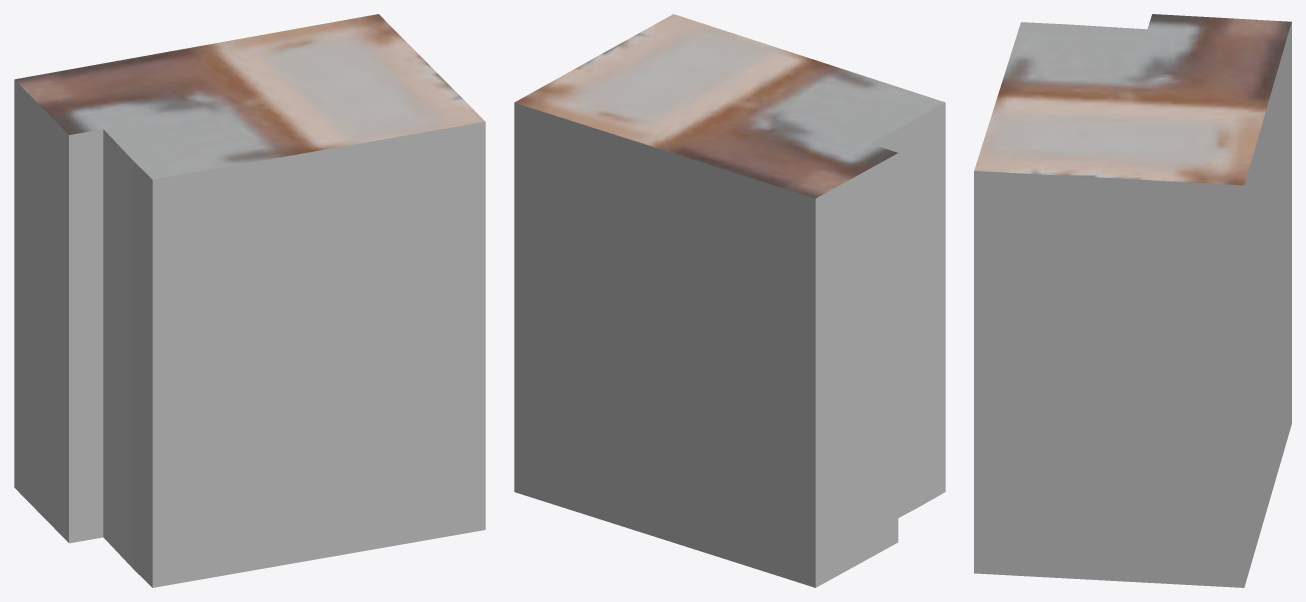
The model's file is DEBW_0010007Tx4M.gltf.
3 views of the same model, side by side, from view 1: azimuth 30°, elevation 25°; view 2: azimuth 150°, elevation 25°; view 3: azimuth 270°, elevation 25° (orthographic). The views are drawn at different scales.
Visible parts, largest first — view 1: Z_UP; view 2: Z_UP; view 3: Z_UP.
Boxes of the visible parts, x1=… form: Z_UP: x1=14, y1=14, x2=485, y2=587; Z_UP: x1=514, y1=14, x2=945, y2=587; Z_UP: x1=974, y1=14, x2=1291, y2=587.
Bounding box in the file's own units: 12.64 × 13.84 × 9.9.
Materials: 2 (1 with a texture image).
